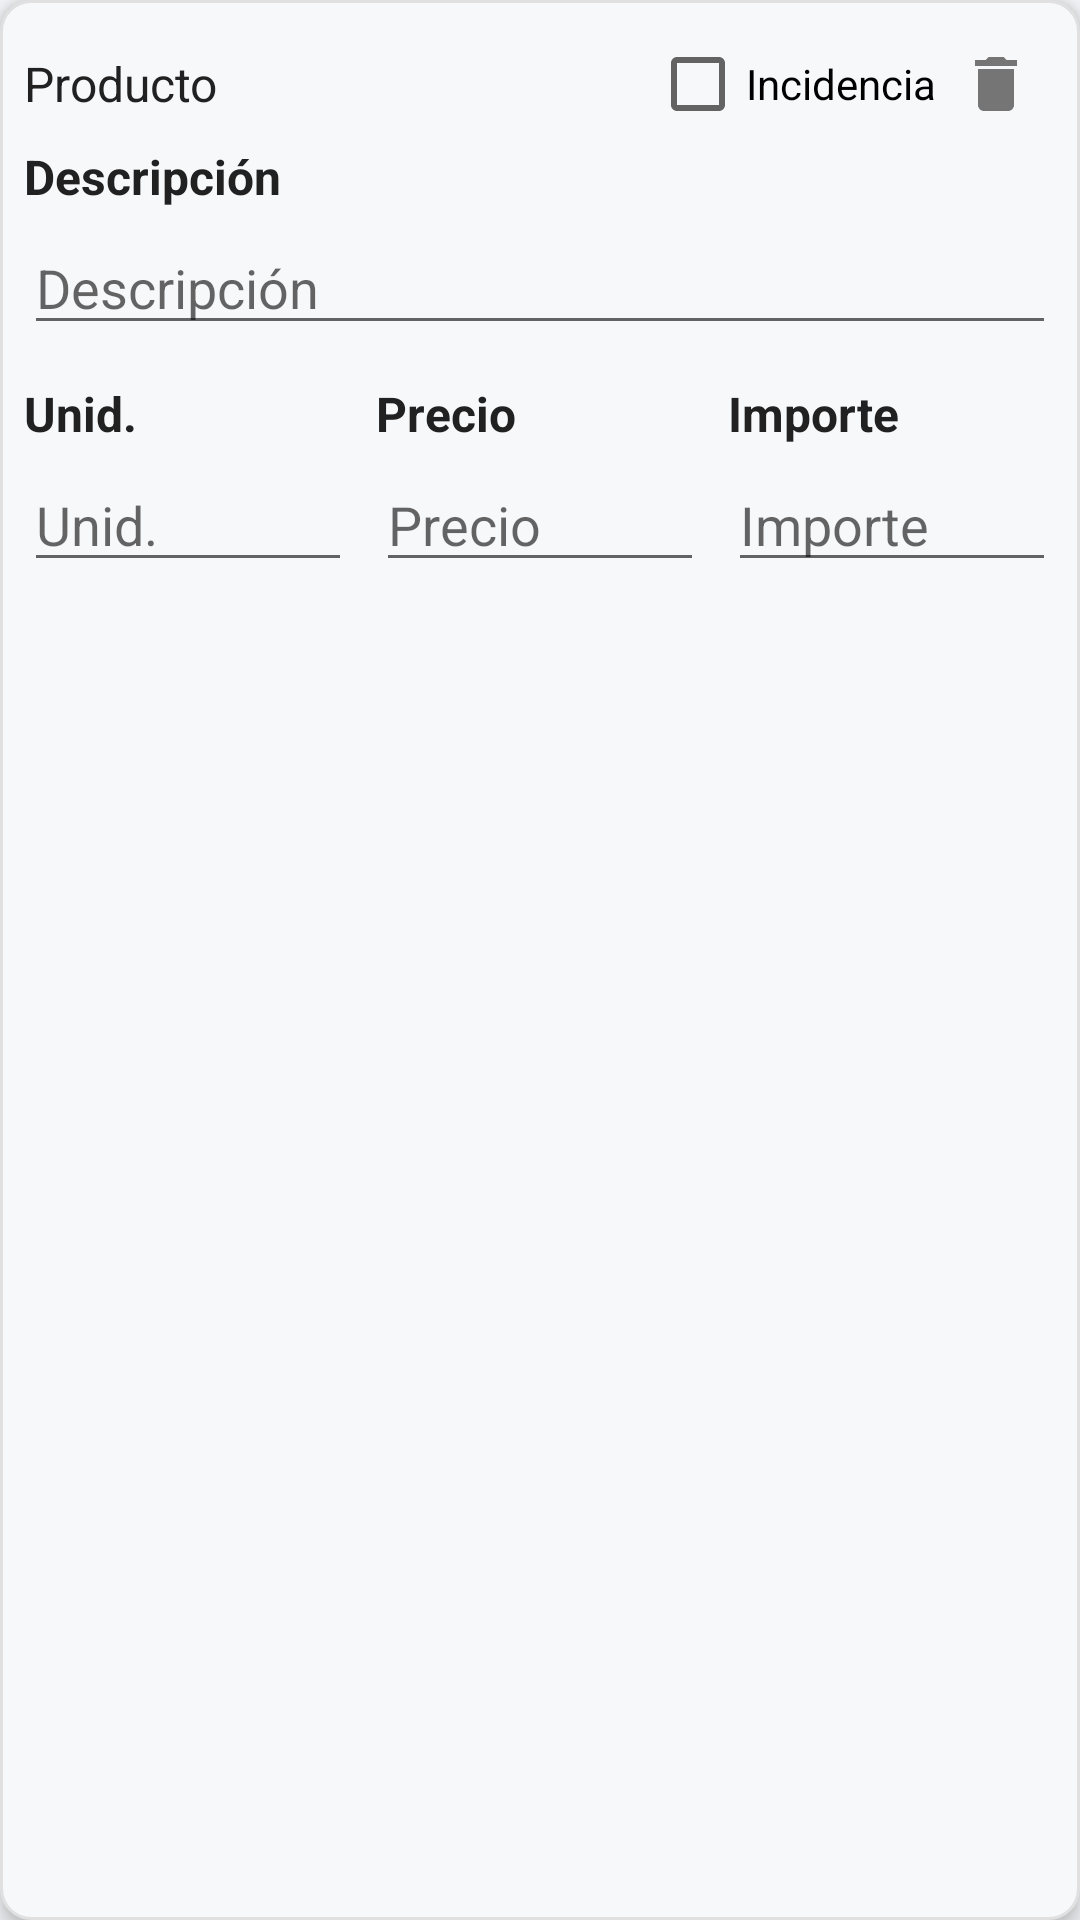

Icon bounding boxes for this 1080 x 1920 phone screenshot, format (x1=x1, y1=y1, x2=x2, y2=y2):
Eliminar producto: (x1=975, y1=57, x2=1017, y2=111)
